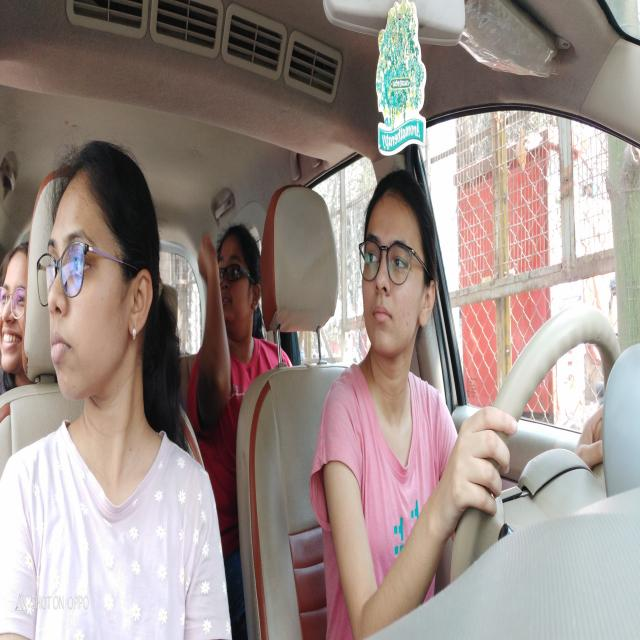LeftRight: (364, 188, 436, 362)
person: (49, 175, 148, 394), (220, 227, 257, 328), (1, 258, 27, 366)
